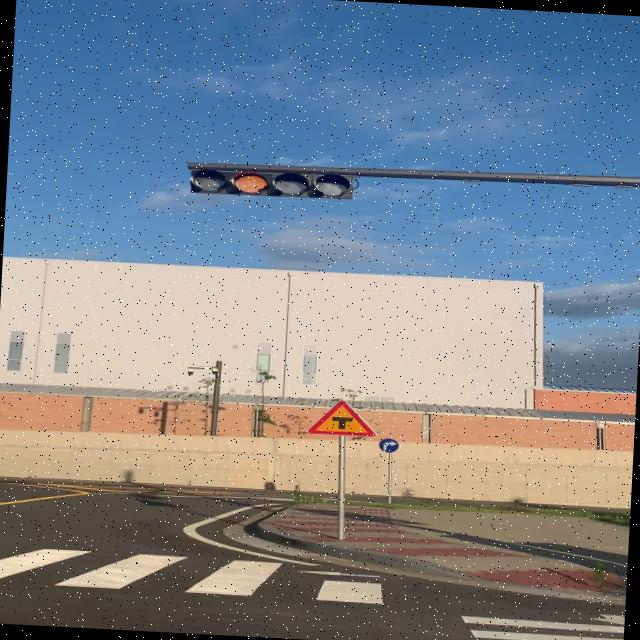yellow_light: (190, 168, 354, 201)
